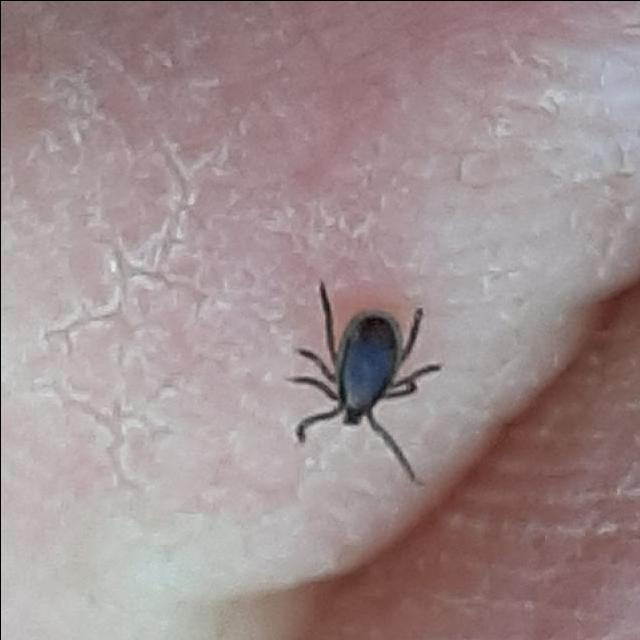Ixodes Ricinus-M: (291, 285, 439, 465)
